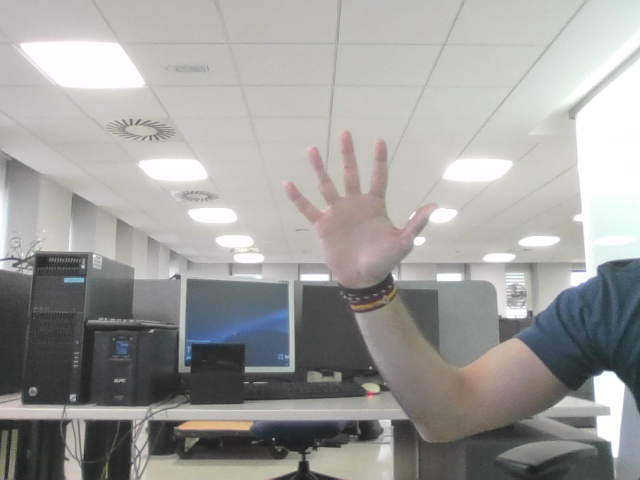Mano Abierta: (297, 142, 426, 258)
